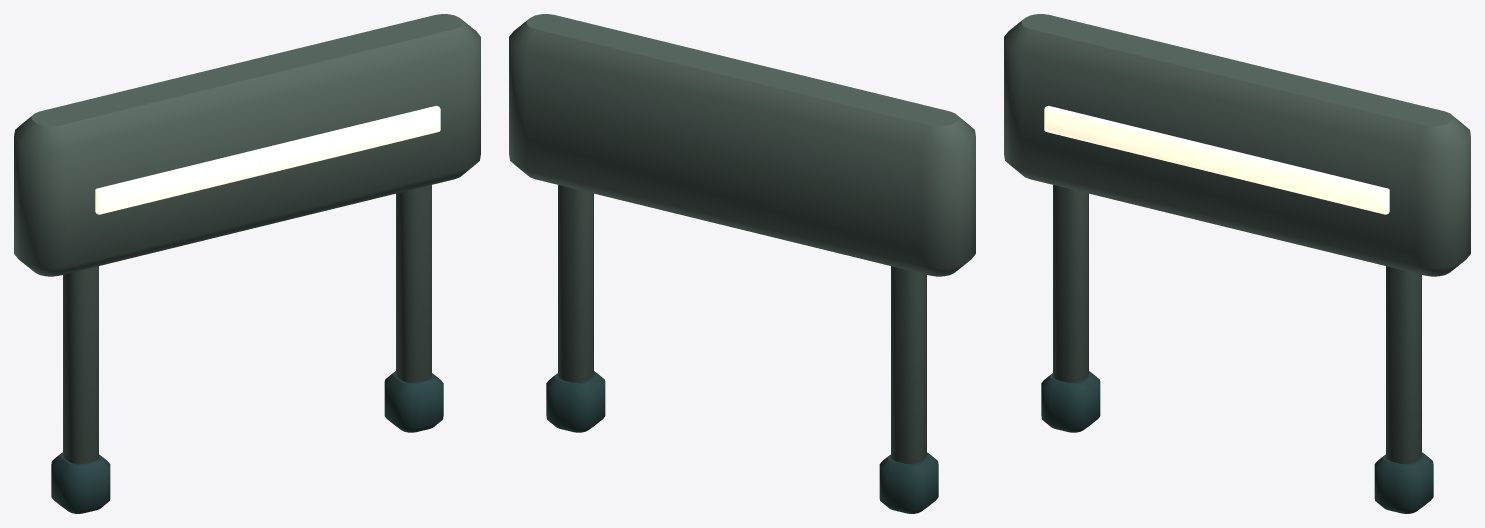
File: truck_works_4.glb
3 renders of one model, left to right at view 1: azimuth 30°, elevation 25°; view 2: azimuth 150°, elevation 25°; view 3: azimuth 330°, elevation 25°, orthographic.
Visible parts, largest first — view 1: TruckWorks4; view 2: TruckWorks4; view 3: TruckWorks4.
Boxes of the visible parts, <box> form: TruckWorks4: <box>14,14,480,513</box>; TruckWorks4: <box>509,14,975,513</box>; TruckWorks4: <box>1004,14,1470,513</box>.
Bounding box in the file's own units: 1.78 × 1.48 × 0.277.
